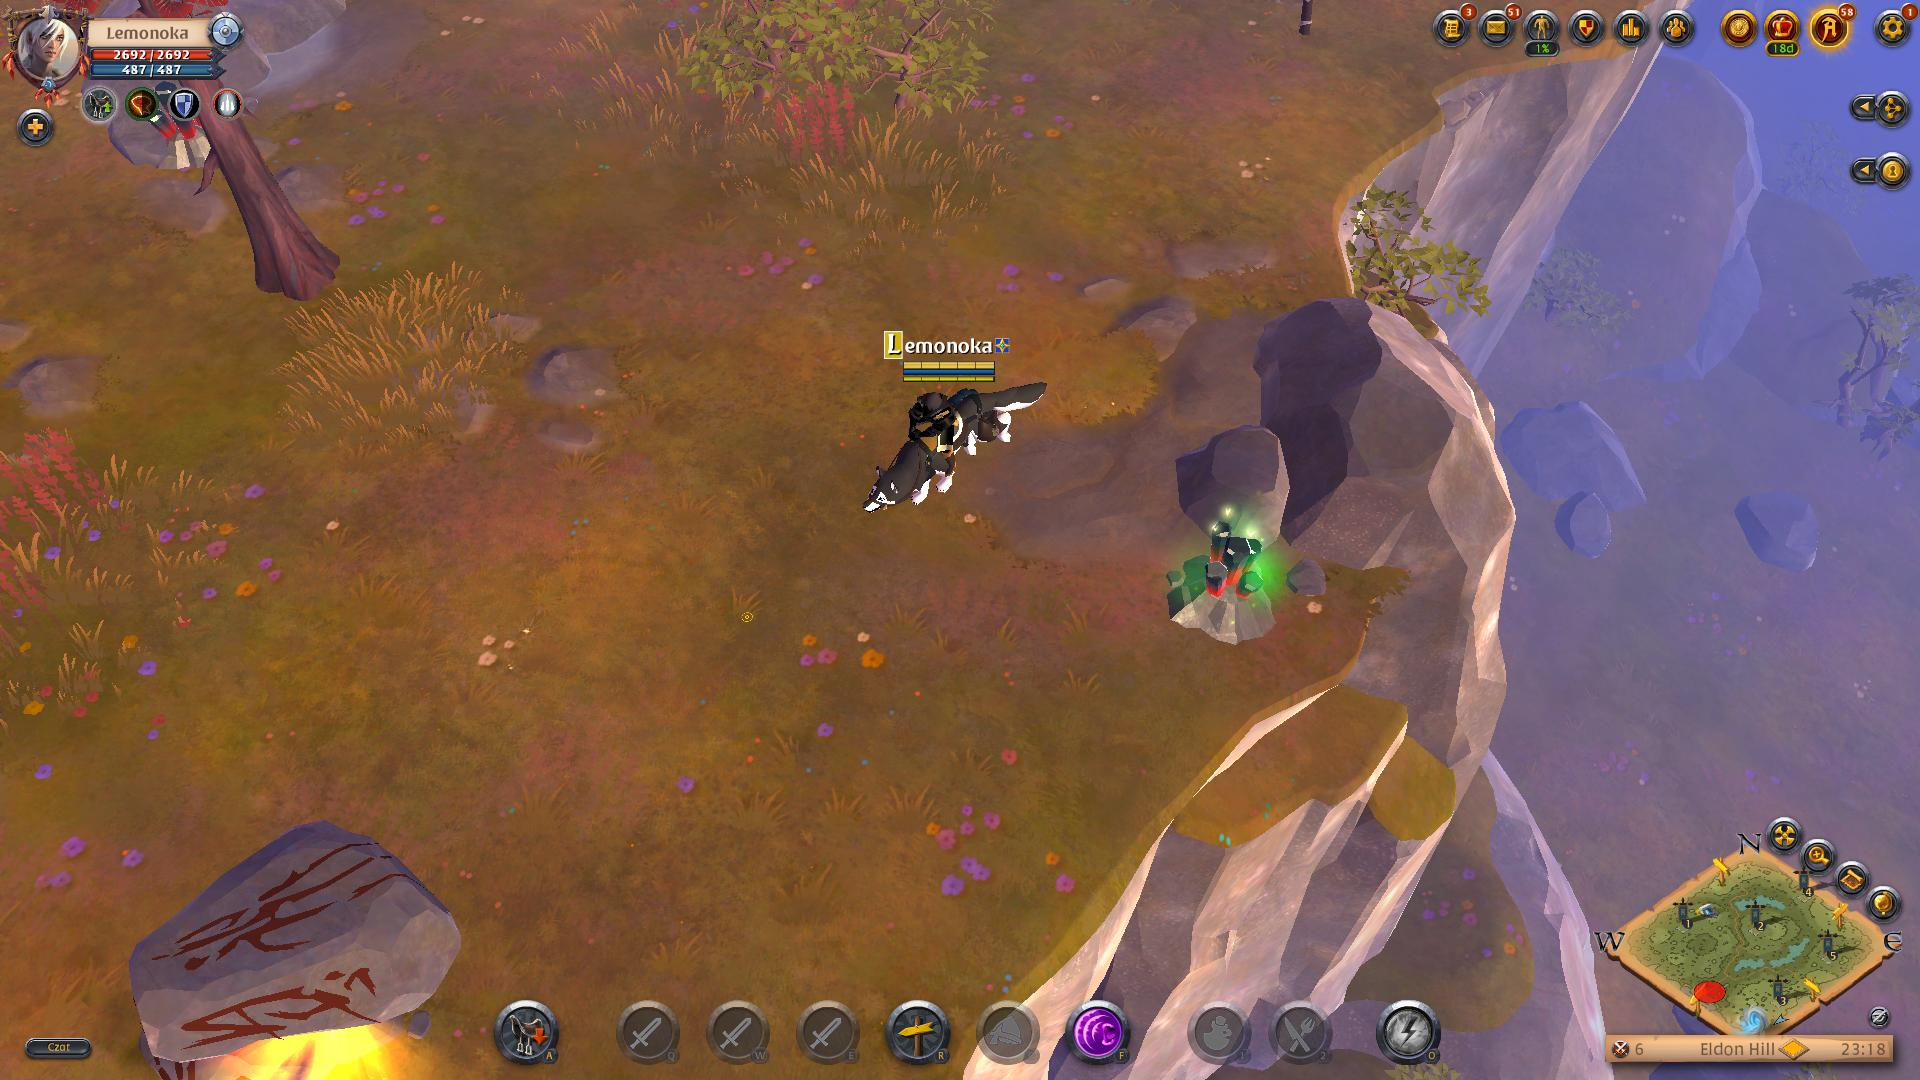ore tier 5: (1162, 512, 1282, 645)
